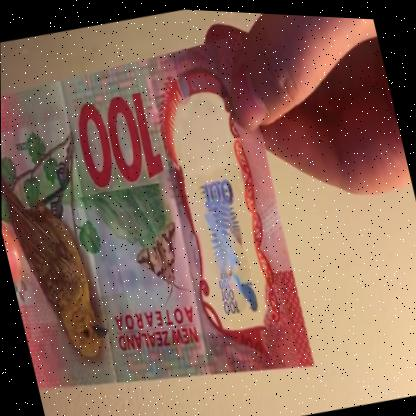100B: (170, 100, 268, 326)
